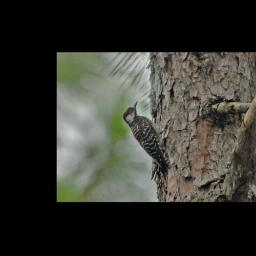Woodpecker: (123, 98, 171, 177)
